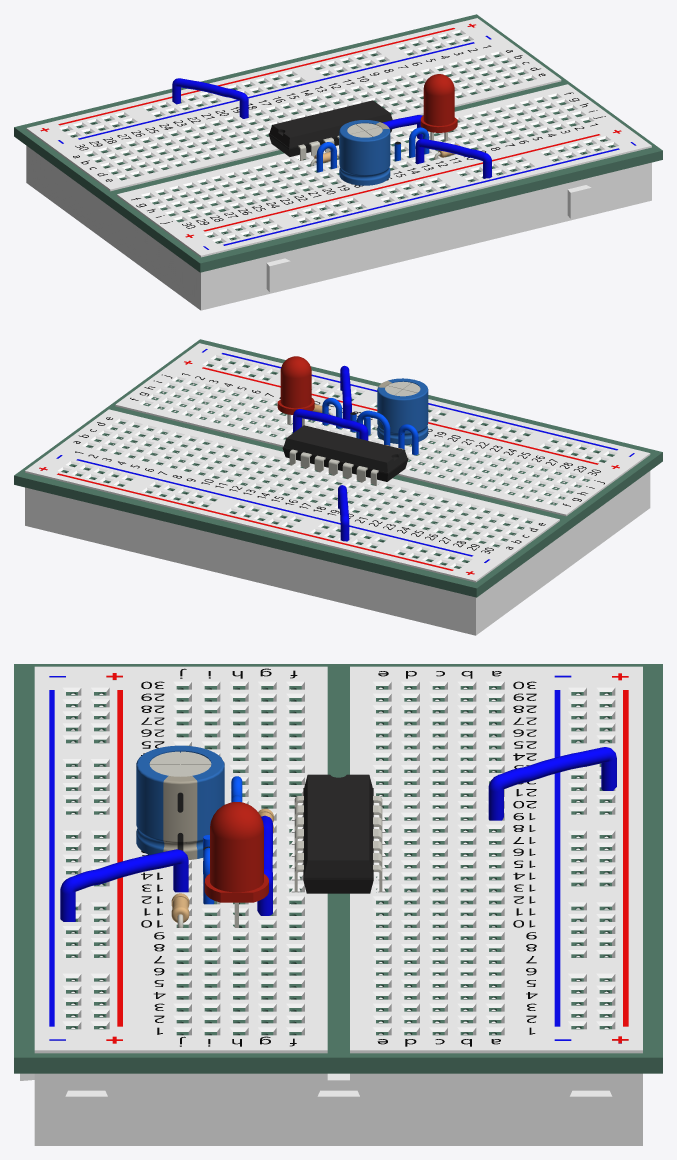
The picture shows the model from 3 angles, top to bottom: view 1: azimuth 30°, elevation 25°; view 2: azimuth 150°, elevation 25°; view 3: azimuth 270°, elevation 25°; orthographic projection. The views are drawn at different scales.
Parts seen in each view (by area): view 1: HalfBreadboard001, breadboard_PCB, HalfBreadboard, DIP-14_W7.62mm, CP_Radial_D80mm_P380mm, LED_D5.0mm, wire_12mm_Blue001, wire_12mm_Blue; view 2: HalfBreadboard001, breadboard_PCB, DIP-14_W7.62mm, HalfBreadboard, CP_Radial_D80mm_P380mm, LED_D5.0mm, wire_12mm_Blue002, wire_12mm_Blue001, wire_12mm_Blue; view 3: HalfBreadboard001, breadboard_PCB, DIP-14_W7.62mm, CP_Radial_D80mm_P380mm, HalfBreadboard, LED_D5.0mm, wire_12mm_Blue001, wire_12mm_Blue, wire_12mm_Blue002.
Part boxes in pixels (<box>): HalfBreadboard001: <box>26,18,651,304</box>; breadboard_PCB: <box>14,14,662,272</box>; HalfBreadboard: <box>26,177,651,310</box>; DIP-14_W7.62mm: <box>268,100,392,160</box>; CP_Radial_D80mm_P380mm: <box>339,120,390,185</box>; LED_D5.0mm: <box>420,74,457,141</box>; wire_12mm_Blue001: <box>172,78,248,118</box>; wire_12mm_Blue: <box>415,138,491,178</box>; HalfBreadboard001: <box>25,343,650,629</box>; breadboard_PCB: <box>14,339,662,597</box>; DIP-14_W7.62mm: <box>282,425,408,485</box>; HalfBreadboard: <box>25,502,650,635</box>; CP_Radial_D80mm_P380mm: <box>377,378,428,445</box>; LED_D5.0mm: <box>277,356,314,426</box>; wire_12mm_Blue002: <box>293,409,368,440</box>; wire_12mm_Blue001: <box>338,485,349,541</box>; wire_12mm_Blue: <box>340,365,351,420</box>; HalfBreadboard001: <box>20,666,642,1141</box>; breadboard_PCB: <box>14,664,662,1073</box>; DIP-14_W7.62mm: <box>294,774,382,893</box>; CP_Radial_D80mm_P380mm: <box>136,745,224,859</box>; HalfBreadboard: <box>34,1135,642,1145</box>; LED_D5.0mm: <box>204,802,268,927</box>; wire_12mm_Blue001: <box>488,747,616,820</box>; wire_12mm_Blue: <box>60,849,188,921</box>; wire_12mm_Blue002: <box>257,815,272,915</box>.
Bounding box in the file's own units: 8.42 × 2.09 × 5.84.
